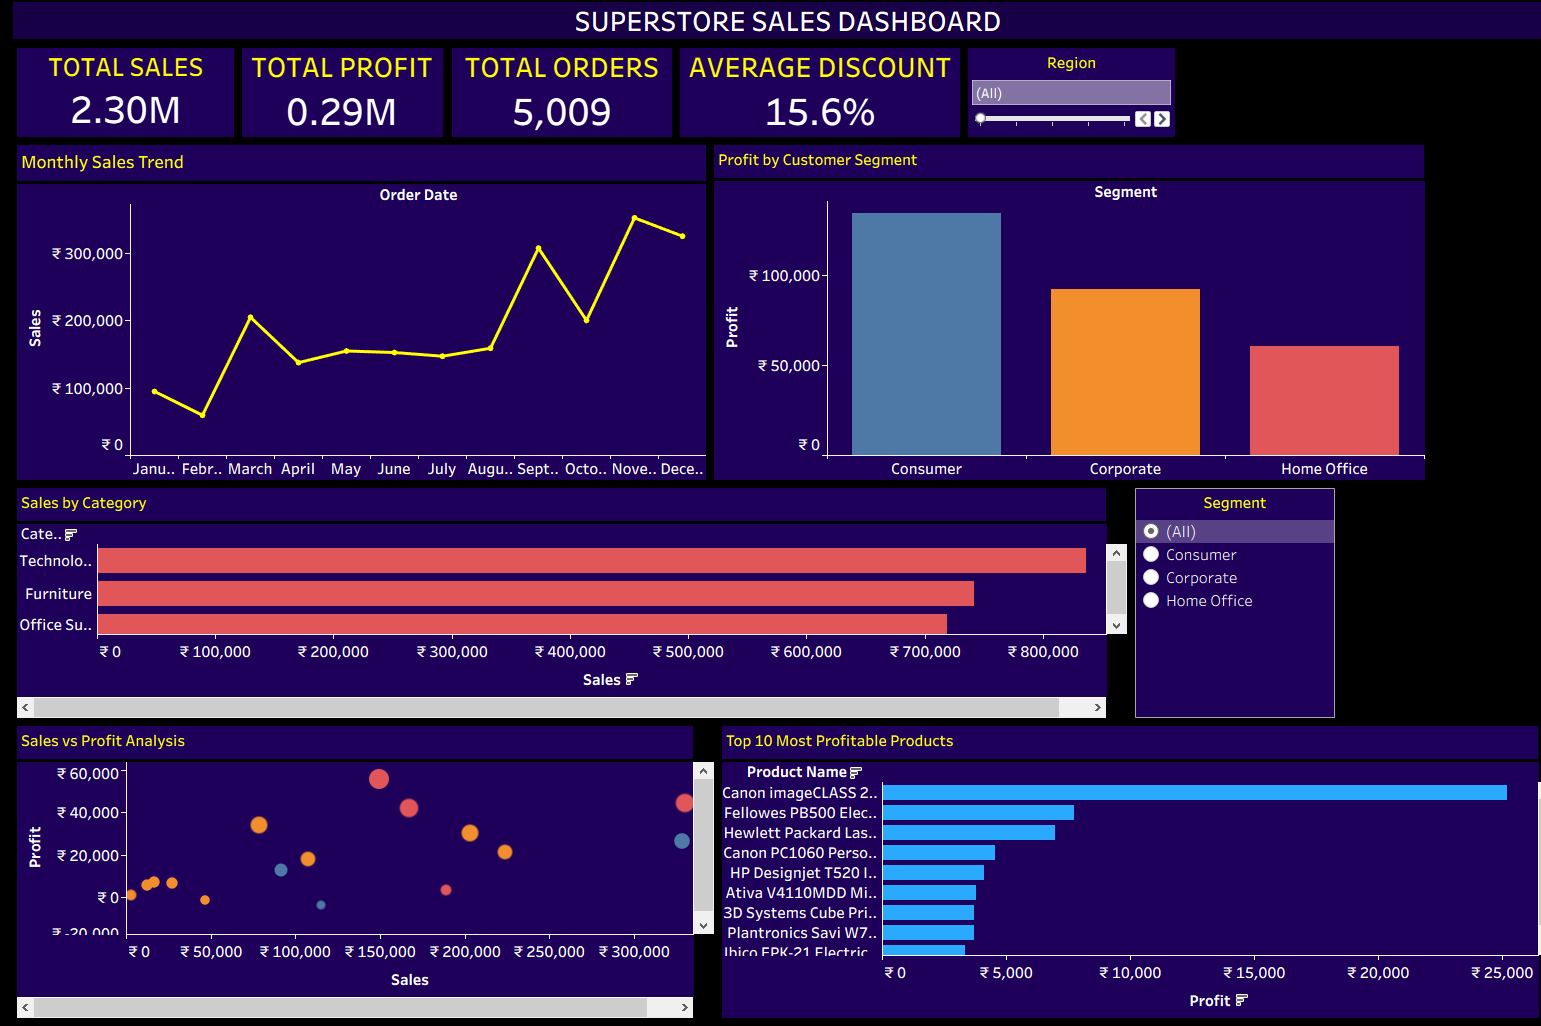

The dashboard page shown, as its layout file describes it:
{"tool":"tableau","page":{"name":"Dashboard 1","canvas":[1566,1068],"ordinal":0},"visuals":[{"type":"text","box":[8,8,1550,37]},{"type":"worksheet","title":"Total_sales","mark":"Automatic","box":[8,50,225,97]},{"type":"worksheet","title":"Total_profit","mark":"Automatic","box":[233,50,210,97]},{"type":"worksheet","title":"Total_orders","mark":"Automatic","box":[443,50,228,97]},{"type":"worksheet","title":"Avg_discount","mark":"Automatic","box":[671,50,288,97]},{"type":"filter","title":"Sheet 6","param":"[federated.0qilga90wbtb6p1f34iyp1mspm6q].[none:Region:nk]","box":[959,50,215,97]},{"type":"worksheet","title":"Sheet 5","mark":"Automatic","rows":["Sales"],"cols":["Order Date"],"box":[8,147,697,343]},{"type":"worksheet","title":"Sheet 9","mark":"Bar","rows":["Profit"],"cols":["Segment"],"box":[705,147,721,343]},{"type":"worksheet","title":"Sheet 6","mark":"Automatic","rows":["Category"],"cols":["Sales"],"box":[8,490,1118,238]},{"type":"filter","title":"Sheet 9","param":"[federated.0qilga90wbtb6p1f34iyp1mspm6q].[none:Segment:nk]","box":[1126,490,208,238]},{"type":"worksheet","title":"Sheet 7","mark":"Circle","rows":["Profit"],"cols":["Sales"],"box":[8,728,705,300]},{"type":"worksheet","title":"Sheet 8","mark":"Automatic","rows":["Product Name"],"cols":["Profit"],"box":[713,728,845,300]}]}

Visuals, with their boxes in screenshot pixels (x1, y1, x2, y2), scaled from the page's 1566x1068 canvas onto the 1541x1026 screenshot:
text: pyautogui.locateOnScreen(8, 8, 1533, 43)
"Total_sales" worksheet: pyautogui.locateOnScreen(8, 48, 229, 141)
"Total_profit" worksheet: pyautogui.locateOnScreen(229, 48, 436, 141)
"Total_orders" worksheet: pyautogui.locateOnScreen(436, 48, 660, 141)
"Avg_discount" worksheet: pyautogui.locateOnScreen(660, 48, 944, 141)
"Sheet 6" filter: pyautogui.locateOnScreen(944, 48, 1155, 141)
"Sheet 5" worksheet: pyautogui.locateOnScreen(8, 141, 694, 471)
"Sheet 9" worksheet (Bar marks): pyautogui.locateOnScreen(694, 141, 1403, 471)
"Sheet 6" worksheet: pyautogui.locateOnScreen(8, 471, 1108, 699)
"Sheet 9" filter: pyautogui.locateOnScreen(1108, 471, 1313, 699)
"Sheet 7" worksheet (Circle marks): pyautogui.locateOnScreen(8, 699, 702, 988)
"Sheet 8" worksheet: pyautogui.locateOnScreen(702, 699, 1533, 988)
